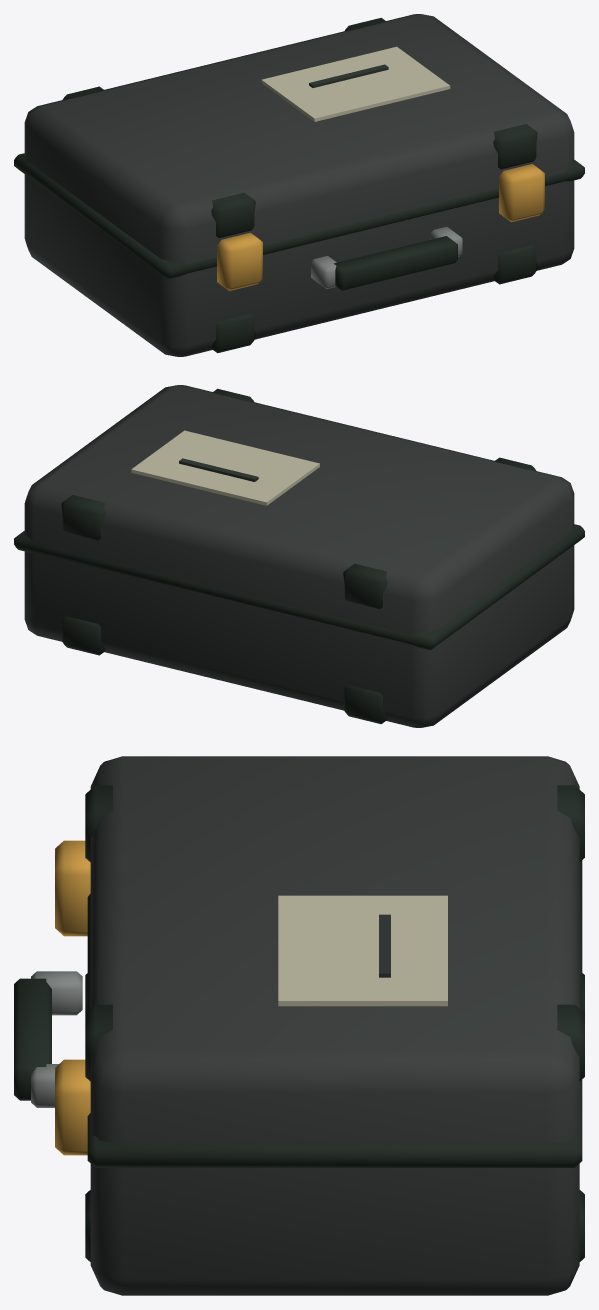
The model's file is intelligenceCase.glb.
3 renders of one model, top to bottom at view 1: azimuth 30°, elevation 25°; view 2: azimuth 150°, elevation 25°; view 3: azimuth 270°, elevation 25°, orthographic. The views are drawn at different scales.
Parts seen in each view (by area): view 1: SM_intelligenceCase; view 2: SM_intelligenceCase; view 3: SM_intelligenceCase.
Part boxes in pixels (x1,y1,x2,y2): SM_intelligenceCase: [14, 14, 584, 356]; SM_intelligenceCase: [14, 385, 584, 727]; SM_intelligenceCase: [14, 756, 584, 1295].
Bounding box in the file's own units: 0.776 × 0.2815 × 0.5725.
